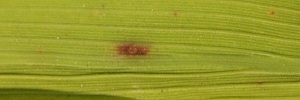RiceBrownSpot: (108, 38, 157, 63)
